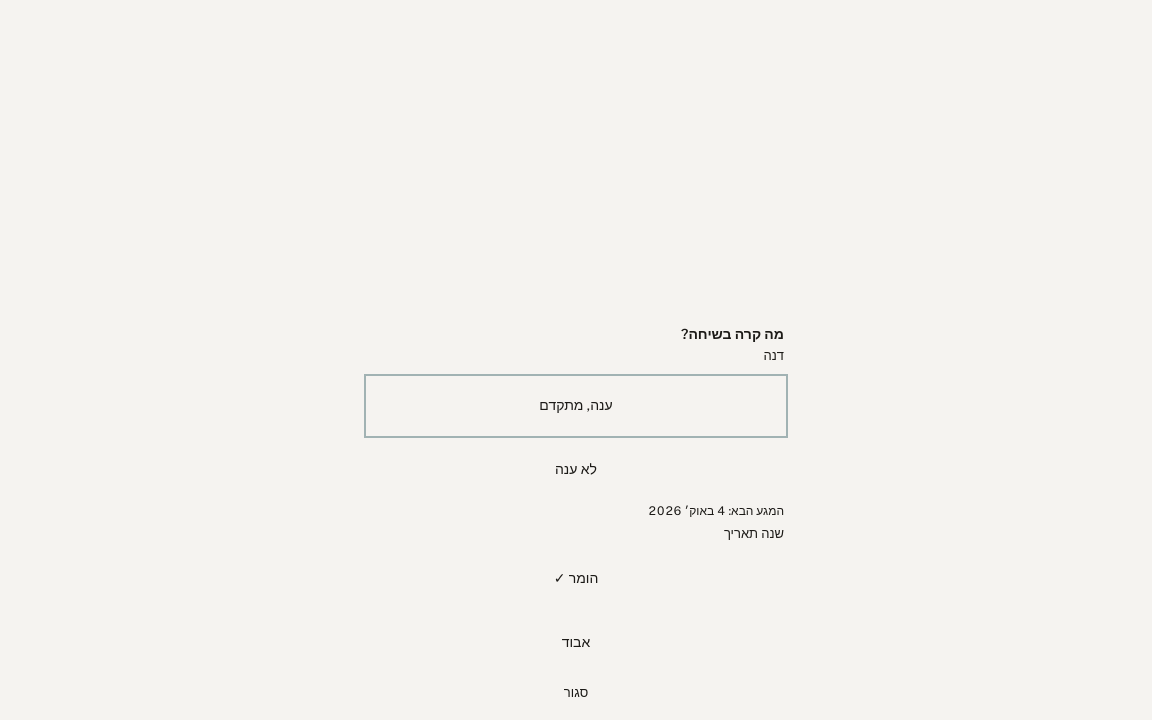
Scenario: outcome sheet › says what Save still needs while it is disabled, and stops once it is ready
Click the button with test id "outcome-answered_progressing". click: coordinates (576, 406)
box: [368,378,784,434]
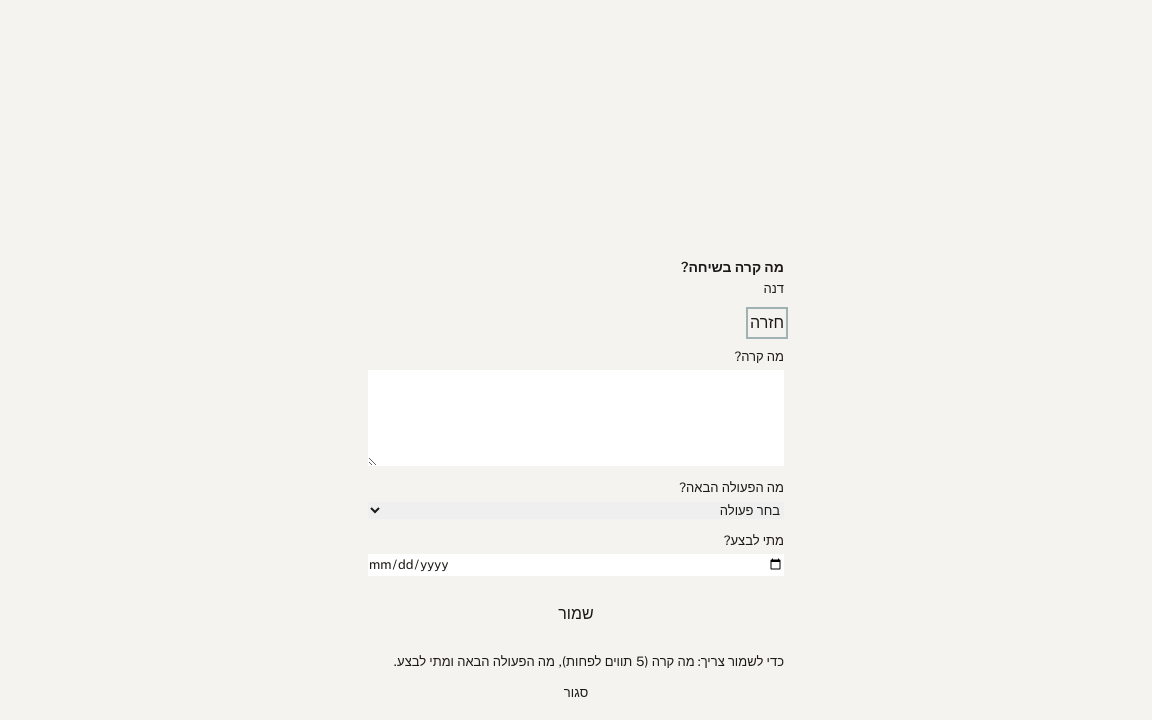
Type "שיחה טובה" into the text box labelled "מה קרה?". click: coordinates (576, 418)
box: [368,370,784,466]
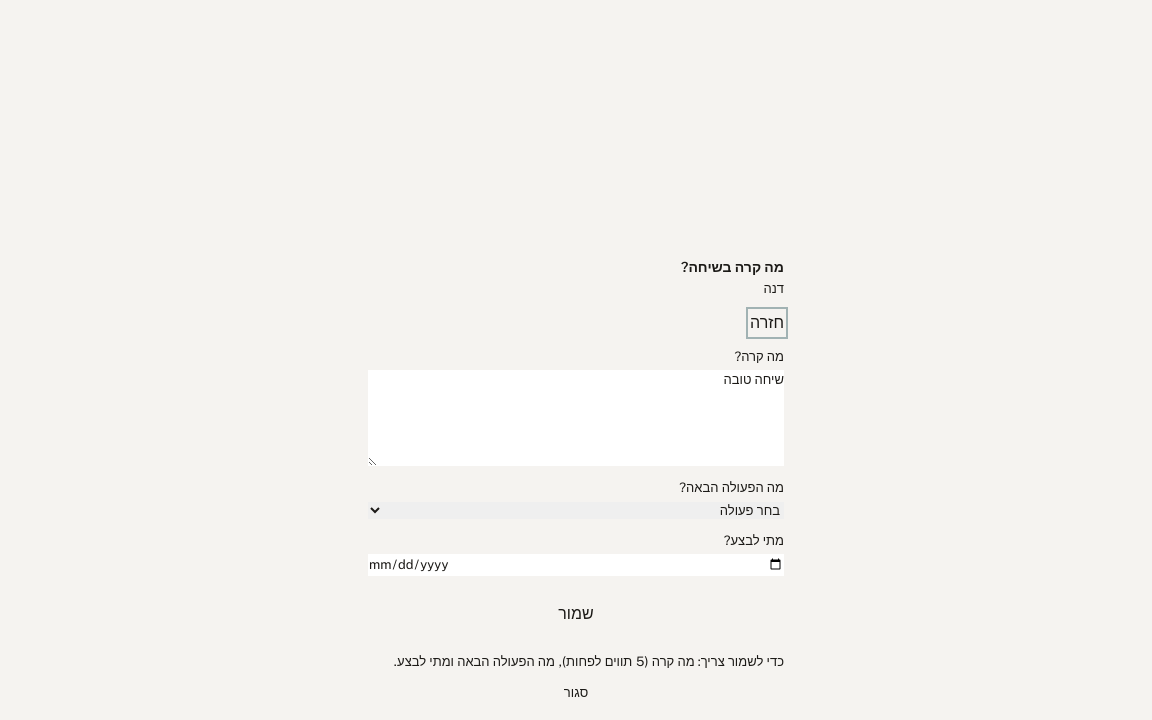
Select "התקשר" in the dropdown labelled "מה הפעולה הבאה?". click: coordinates (576, 510)
box: [368,502,784,518]
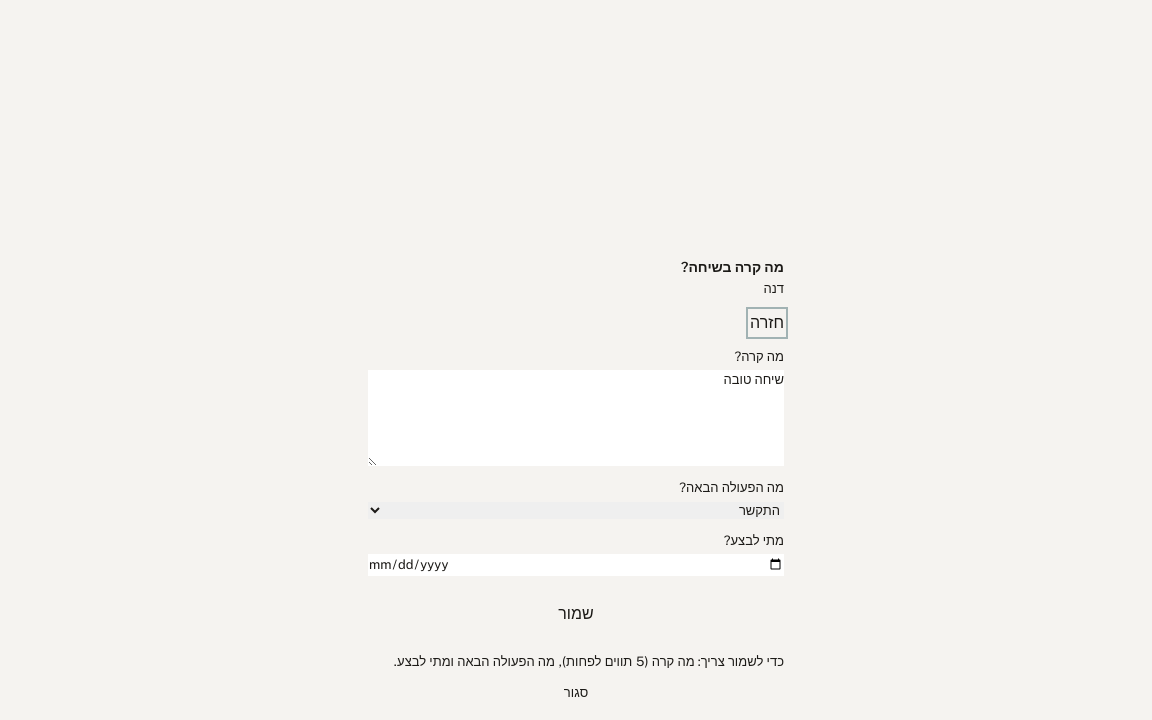
Type "2099-01-01" into the date field labelled "מתי לבצע?". click: coordinates (576, 565)
box: [368,554,784,576]
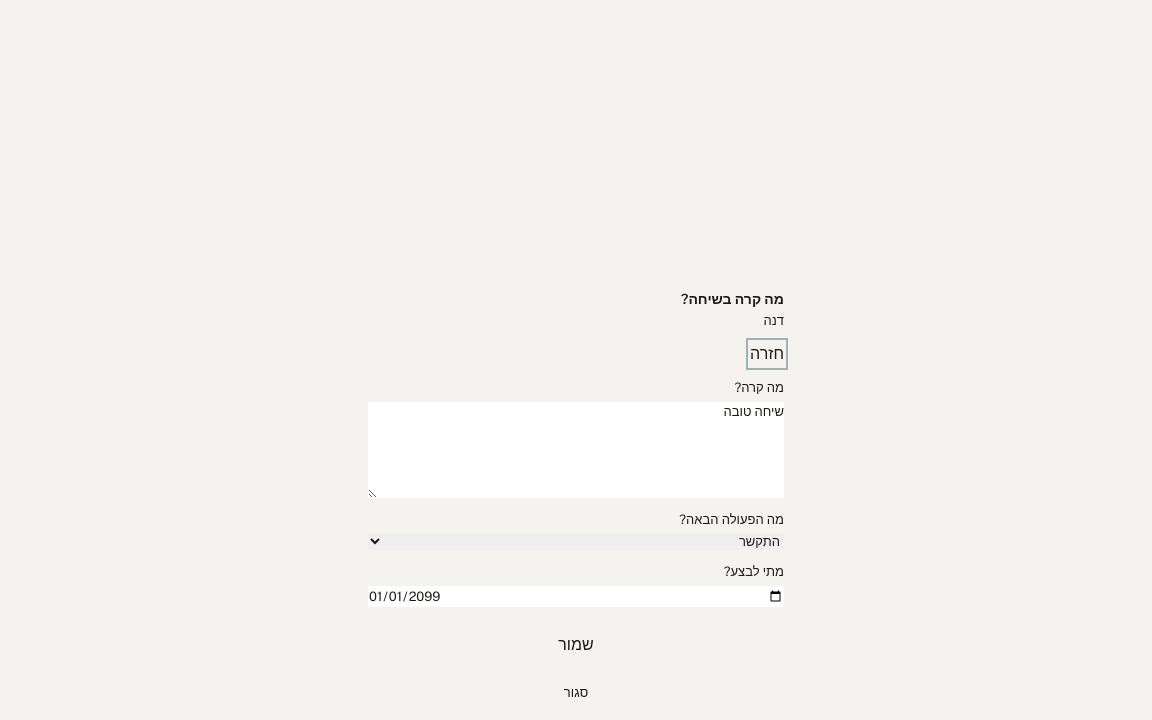
Expected: the text "כדי לשמור צריך: מה קרה (5 תווים לפחות), מה הפעולה הבאה ומתי לבצע." is gone
